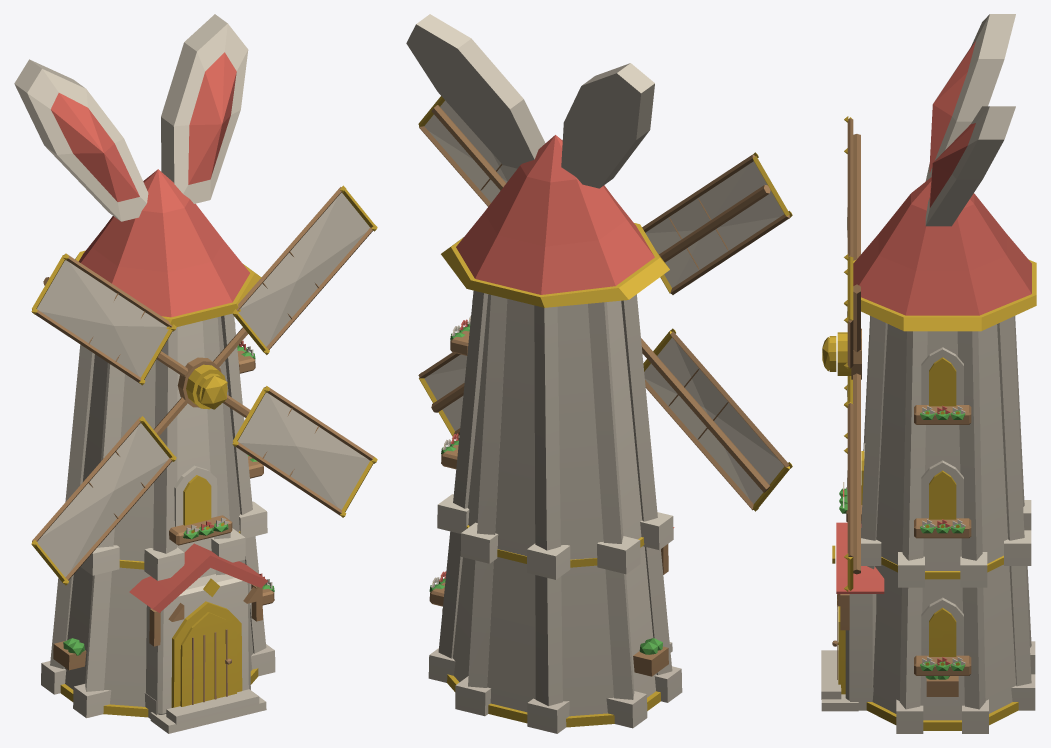
The model's file is windmill.glb.
The picture shows the model from 3 angles, left to right: view 1: azimuth 30°, elevation 25°; view 2: azimuth 150°, elevation 25°; view 3: azimuth 270°, elevation 25°; orthographic projection. The views are drawn at different scales.
Parts seen in each view (by area): view 1: root_mesh, wheel0_mesh, ears1_mesh, ears0_mesh; view 2: root_mesh, wheel0_mesh, ears1_mesh, ears0_mesh; view 3: root_mesh, wheel0_mesh, ears0_mesh, ears1_mesh.
Boxes of the visible parts, bbox=[...] form: root_mesh: bbox=[41, 169, 275, 733]; wheel0_mesh: bbox=[31, 185, 377, 585]; ears1_mesh: bbox=[161, 14, 248, 203]; ears0_mesh: bbox=[14, 59, 148, 221]; root_mesh: bbox=[428, 135, 682, 733]; wheel0_mesh: bbox=[418, 96, 792, 511]; ears1_mesh: bbox=[406, 14, 545, 168]; ears0_mesh: bbox=[561, 63, 654, 188]; root_mesh: bbox=[821, 177, 1036, 733]; wheel0_mesh: bbox=[822, 116, 861, 591]; ears0_mesh: bbox=[925, 14, 1015, 181]; ears1_mesh: bbox=[925, 106, 1015, 226].
Bounding box in the file's own units: 5.3 × 9 × 2.8.
